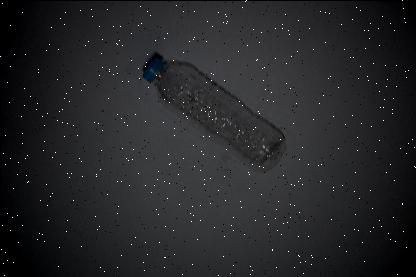Plastic Bottle: (142, 50, 288, 174)
